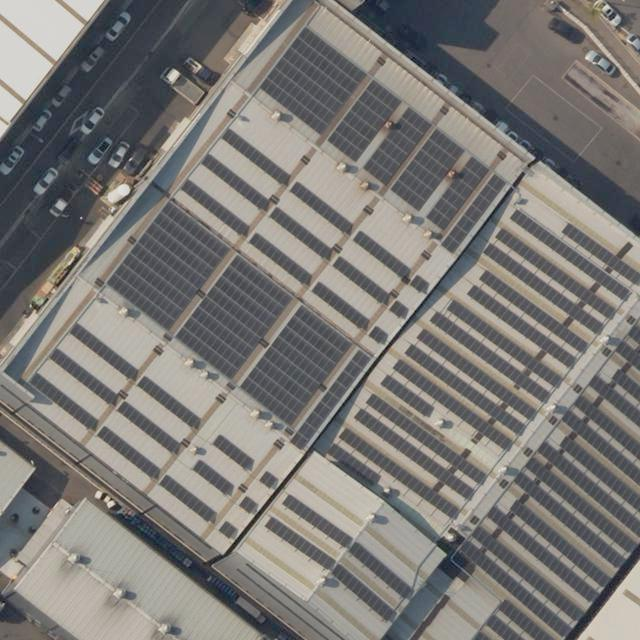solar: (101, 194, 243, 337), (172, 248, 301, 378), (264, 515, 400, 625), (279, 493, 415, 601), (240, 303, 354, 430), (480, 240, 613, 336), (258, 25, 375, 133), (495, 227, 625, 323), (507, 205, 632, 304), (417, 328, 540, 423), (402, 345, 529, 437), (427, 311, 554, 402), (458, 542, 576, 639), (365, 395, 490, 486), (469, 530, 586, 626), (486, 508, 603, 603), (511, 473, 625, 570), (525, 459, 639, 556), (392, 361, 514, 450), (353, 411, 475, 500), (338, 429, 459, 518), (447, 302, 567, 390), (534, 442, 639, 542), (478, 269, 600, 355), (467, 284, 584, 370), (507, 502, 612, 592), (287, 350, 374, 450), (325, 77, 409, 165), (387, 127, 469, 213), (361, 107, 439, 187), (438, 170, 510, 255), (559, 436, 639, 512), (423, 153, 495, 232), (556, 221, 639, 289), (559, 409, 639, 474), (134, 370, 207, 433), (25, 368, 99, 430), (48, 346, 119, 409), (179, 177, 252, 236), (199, 152, 272, 211), (70, 319, 138, 381), (246, 230, 314, 290), (222, 127, 291, 185), (266, 204, 332, 261), (96, 422, 160, 480), (288, 181, 352, 235), (306, 279, 369, 332), (156, 473, 219, 525), (351, 229, 411, 282), (331, 255, 392, 307), (323, 438, 383, 487), (587, 376, 639, 425), (379, 375, 436, 419), (210, 431, 257, 476), (327, 447, 384, 484), (496, 601, 549, 639), (482, 615, 522, 639), (611, 372, 639, 400), (252, 469, 279, 497), (614, 341, 639, 370), (365, 323, 390, 350), (407, 271, 429, 298), (386, 299, 411, 321), (239, 496, 260, 519), (219, 521, 241, 541), (628, 324, 639, 338)
